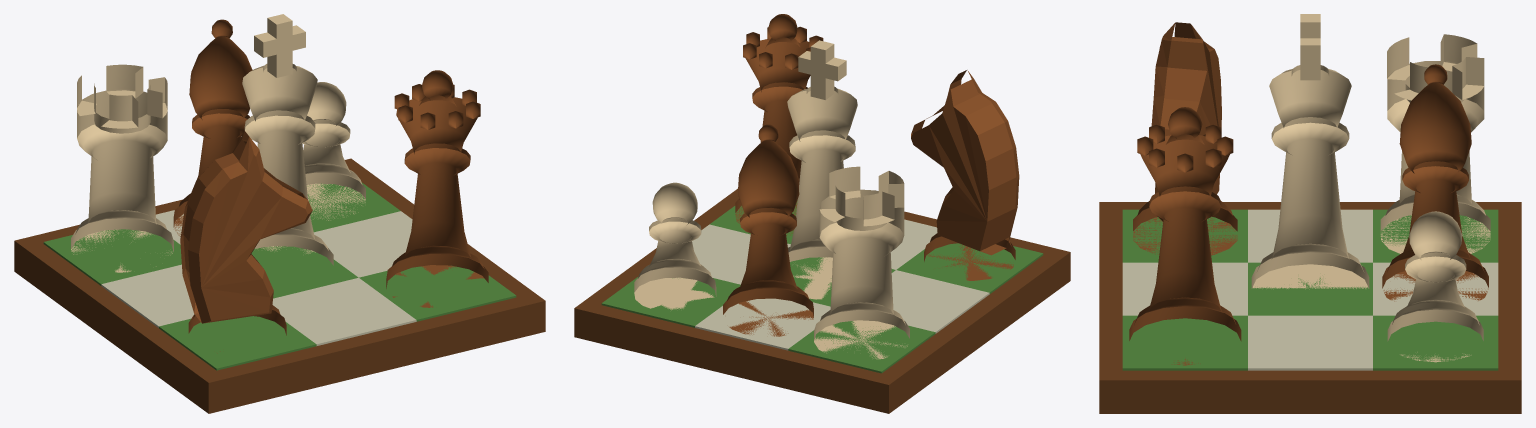
Rendered from chess.glb.
3 renders of one model, left to right at view 1: azimuth 30°, elevation 25°; view 2: azimuth 150°, elevation 25°; view 3: azimuth 270°, elevation 25°, orthographic. The views are drawn at different scales.
Visible parts, largest first — view 1: chess; view 2: chess; view 3: chess.
Part boxes in pixels (box(x1,y1,x2,y2)): chess: box(14, 14, 545, 413); chess: box(574, 14, 1070, 413); chess: box(1099, 14, 1521, 413).
Size of the model in its own units: 1.82 by 1.46 by 1.82.
